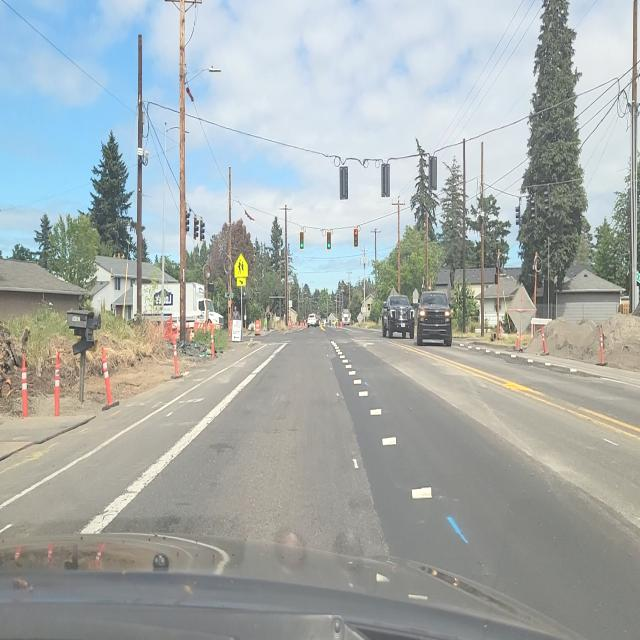car: (416, 292, 453, 346), (379, 293, 412, 339), (307, 313, 319, 328), (342, 312, 351, 326)
crosswalk-sign: (234, 254, 248, 281)
delineator: (100, 348, 116, 410), (20, 354, 29, 420), (597, 326, 609, 367), (54, 351, 61, 417), (172, 335, 179, 376), (540, 326, 548, 355), (210, 324, 216, 359), (515, 330, 521, 351)
